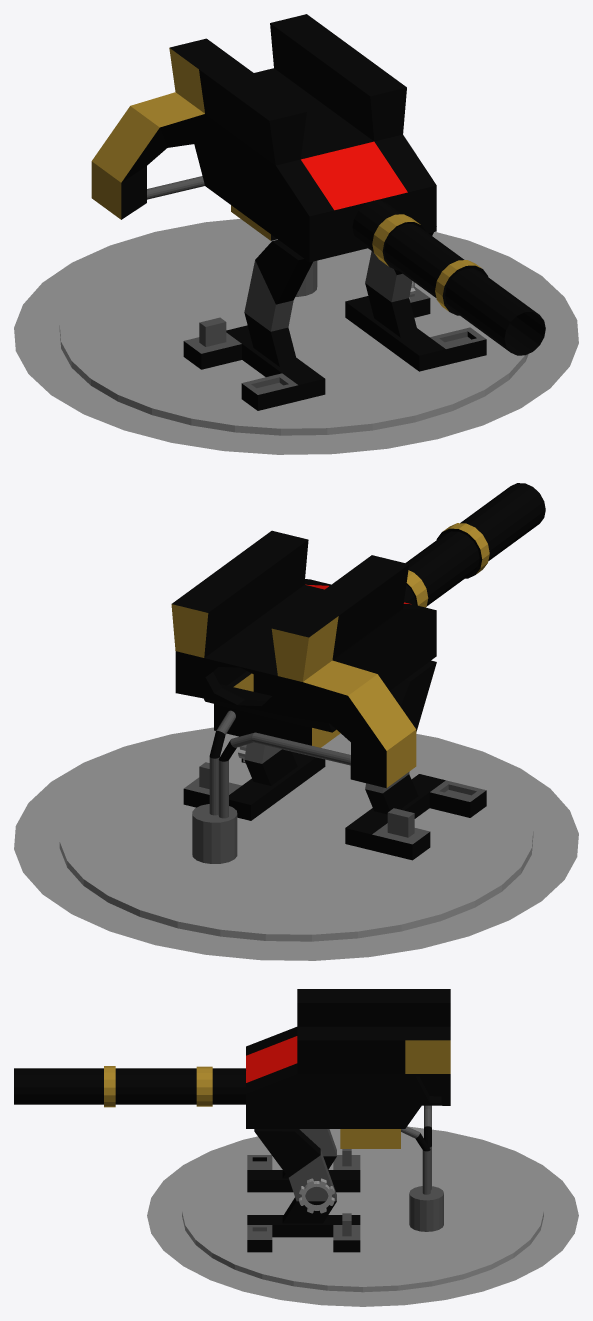
The model's file is Cannon.fbx.
3 renders of one model, top to bottom at view 1: azimuth 30°, elevation 25°; view 2: azimuth 150°, elevation 25°; view 3: azimuth 270°, elevation 25°, orthographic. The views are drawn at different scales.
Visible parts, largest first — view 1: Circle, Cube.001, Cube, Cylinder.001, Cylinder; view 2: Circle, Cube.001, Cube, Cylinder.001, Cylinder; view 3: Circle, Cube.001, Cube, Cylinder.001, Cylinder, Gear.
Boxes of the visible parts, bbox=[...] form: Circle: bbox=[14, 218, 578, 454]; Cube.001: bbox=[91, 14, 436, 262]; Cube: bbox=[183, 232, 486, 410]; Cylinder.001: bbox=[352, 200, 545, 355]; Cylinder: bbox=[147, 176, 317, 296]; Circle: bbox=[14, 727, 578, 960]; Cube.001: bbox=[171, 530, 436, 788]; Cube: bbox=[183, 660, 486, 860]; Cylinder.001: bbox=[404, 483, 545, 607]; Cylinder: bbox=[192, 710, 350, 863]; Circle: bbox=[147, 1126, 578, 1306]; Cube.001: bbox=[246, 989, 450, 1148]; Cube: bbox=[247, 1129, 360, 1252]; Cylinder.001: bbox=[14, 1066, 245, 1107]; Cylinder: bbox=[401, 1105, 443, 1231]; Gear: bbox=[299, 1178, 334, 1213].
Size of the model in its own units: 560 by 287 by 733.
